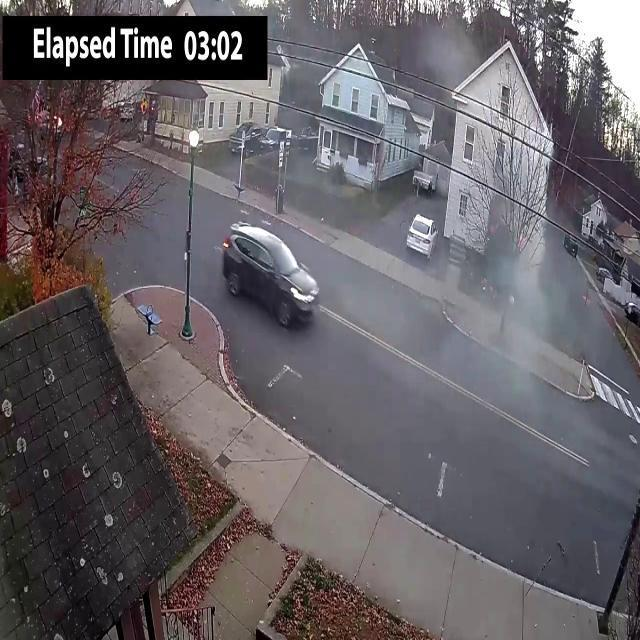Smoke: (455, 172, 603, 412), (264, 0, 340, 105), (421, 10, 476, 103)
